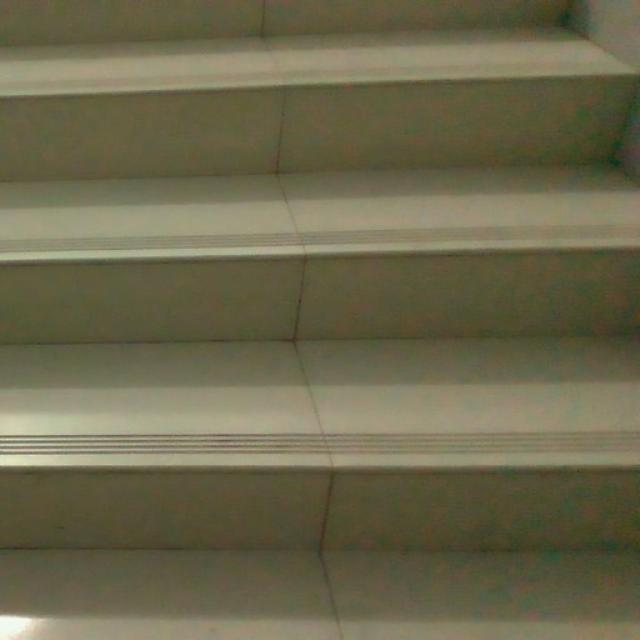stair: (0, 20, 597, 619)
